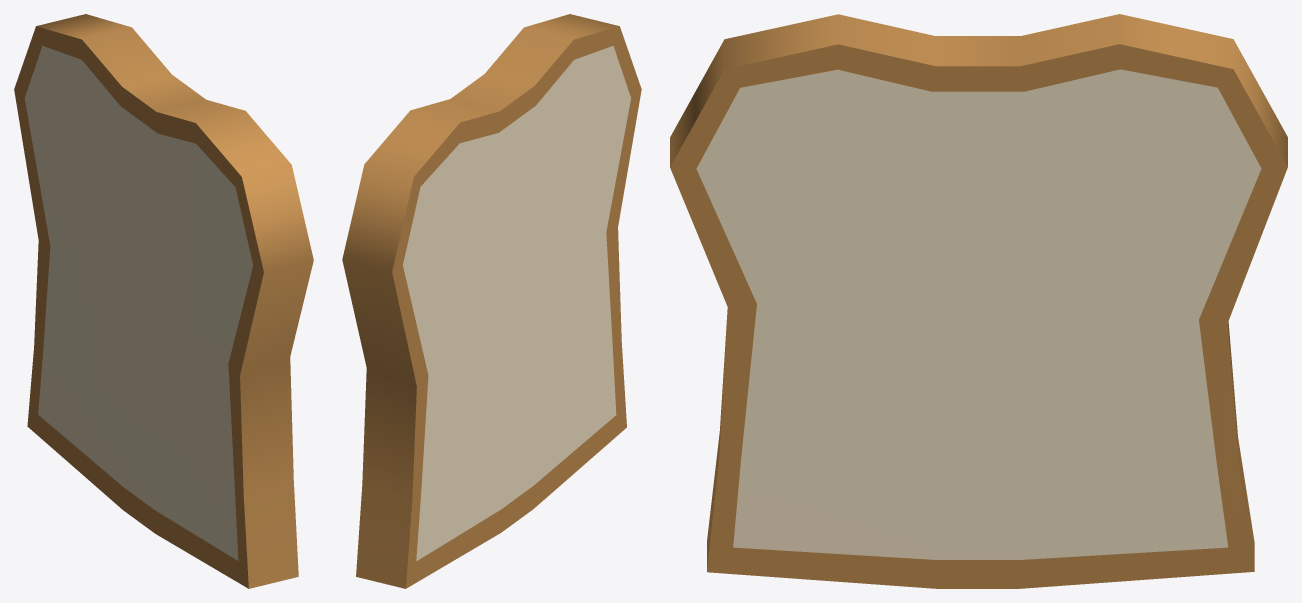
Rendered from bread.fbx.
The picture shows the model from 3 angles, left to right: view 1: azimuth 30°, elevation 25°; view 2: azimuth 150°, elevation 25°; view 3: azimuth 270°, elevation 25°; orthographic projection. The views are drawn at different scales.
Visible parts, largest first — view 1: pCube6; view 2: pCube6; view 3: pCube6.
Part boxes in pixels (x1,y1,x2,y2): pCube6: (14, 14, 313, 588); pCube6: (342, 14, 641, 588); pCube6: (670, 14, 1287, 588).
Bounding box in the file's own units: 7.23 × 60.74 × 62.42.
